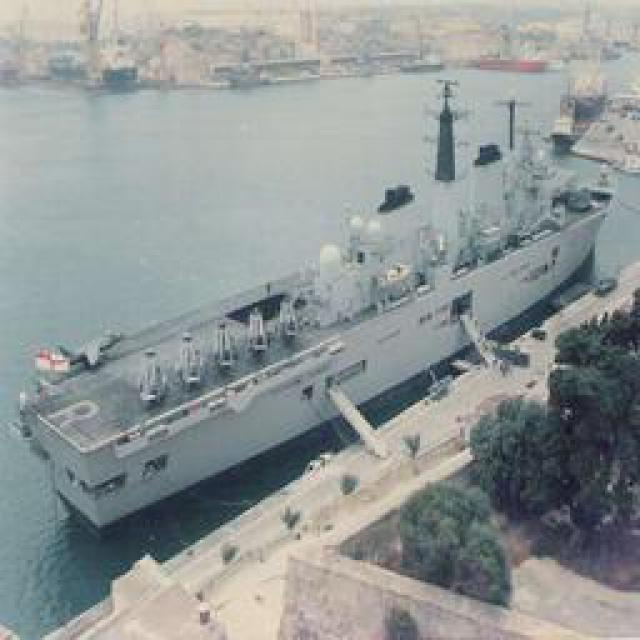Ship: (28, 61, 623, 591)
